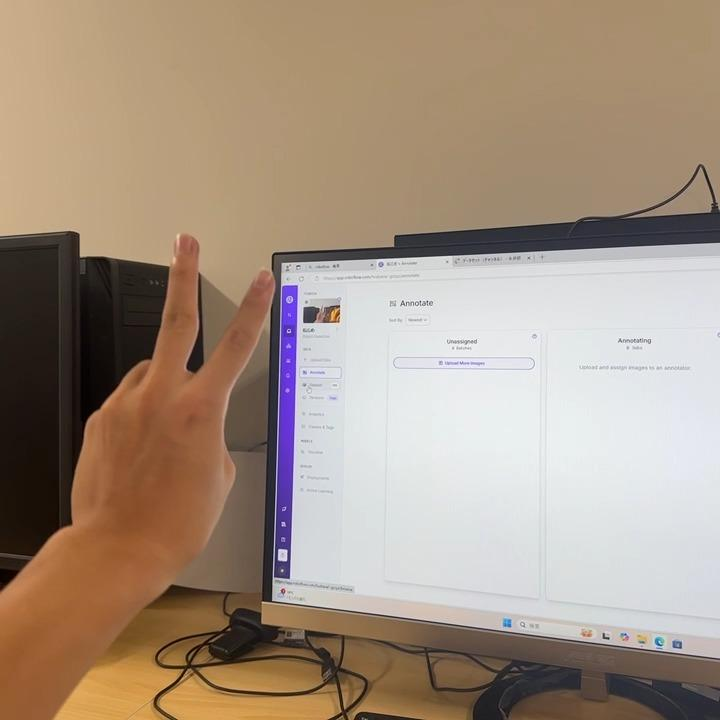without_gloves: (58, 161, 362, 648)
